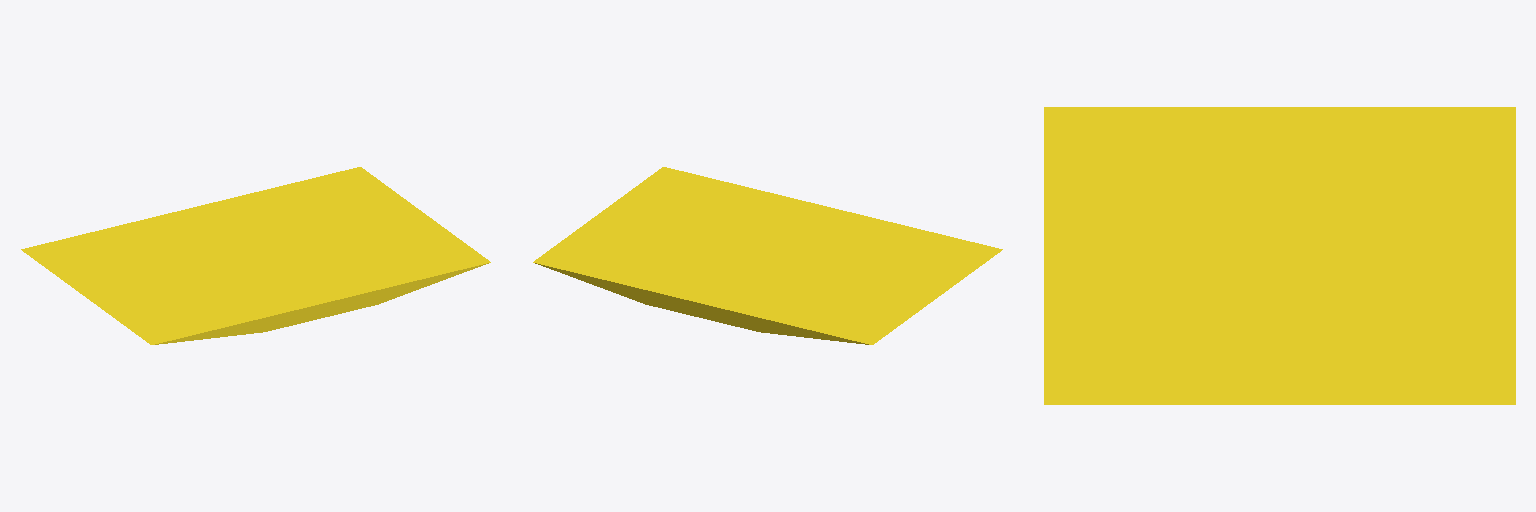
The robot description file, URDF, robot "wedge_7.SLDPRT":
<?xml version="1.0" encoding="utf-8"?>
<!-- This URDF was automatically created by SolidWorks to URDF Exporter! Originally created by [author] ([email redacted]) 
     Commit Version: 1.5.1-0-g916b5db  Build Version: 1.5.7152.31018
     For more information, please see http://wiki.ros.org/sw_urdf_exporter -->
<robot
  name="wedge_7.SLDPRT">
  <link
    name="wedge_7.SLDPRT">
    <inertial>
      <origin
        xyz="0 1.65916202459027E-16 0.010227"
        rpy="0 0 0" />
      <mass
        value="490.89" />
      <inertia
        ixx="164.19"
        ixy="3.6429E-14"
        ixz="-1.6263E-15"
        iyy="205.1"
        iyz="8.82972790589075E-15"
        izz="368.17" />
    </inertial>
    <visual>
      <origin
        xyz="0 0 0"
        rpy="1.5707963267949 0 0" />
      <geometry>
        <mesh
          filename="package://wedge_7.SLDPRT/meshes/wedge_7.SLDPRT.STL" />
      </geometry>
      <material
        name="">
        <color
          rgba="1 0.9 0.2 1" />
        <texture
          filename="package://wedge_7.SLDPRT/textures/" />
      </material>
    </visual>
    <collision>
      <origin
        xyz="0 0 0"
        rpy="1.5707963267949 0 0" />
      <geometry>
        <mesh
          filename="package://wedge_7.SLDPRT/meshes/wedge_7.SLDPRT.STL" />
      </geometry>
    </collision>
  </link>
</robot>

--- Facts derived from the render (not from the file) ---
The picture shows the robot from 3 angles, left to right: view 1: azimuth 30°, elevation 25°; view 2: azimuth 150°, elevation 25°; view 3: azimuth 270°, elevation 25°; orthographic projection.
Model wedge_7.SLDPRT with 1 links and 0 joints (none), rooted at wedge_7.SLDPRT, posed every joint at zero.
Links seen in each view (by area): view 1: wedge_7.SLDPRT; view 2: wedge_7.SLDPRT; view 3: wedge_7.SLDPRT.
Link boxes in pixels (left/top/right/bottom): wedge_7.SLDPRT: left=21, top=167, right=490, bottom=344; wedge_7.SLDPRT: left=533, top=167, right=1002, bottom=344; wedge_7.SLDPRT: left=1044, top=107, right=1515, bottom=404.
Bounding box of the posed robot: 3 × 2 × 0.1227 m (x, y, z).
1 mesh visuals loaded from 1 distinct referenced files (1 binary STL).